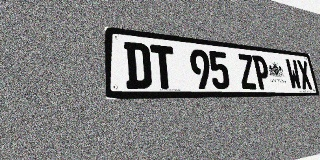5: (208, 50, 231, 89)
9: (189, 48, 213, 89)
D: (124, 42, 152, 89)
P: (252, 55, 271, 89)
T: (150, 44, 177, 89)
W: (285, 59, 302, 89)
X: (296, 60, 313, 89)
Z: (237, 54, 257, 89)
